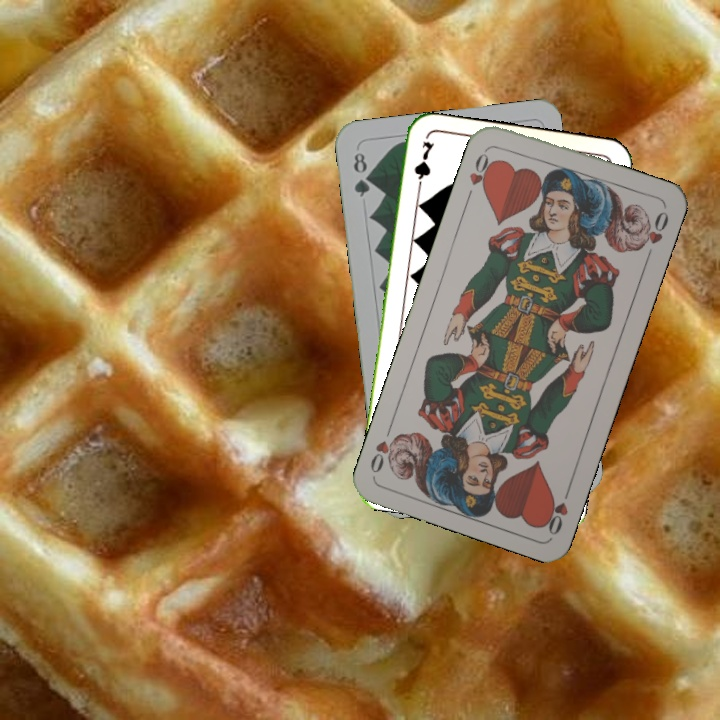G7: (410, 137, 437, 196)
G8: (349, 148, 373, 199)
HO: (463, 145, 498, 202), (539, 481, 574, 538)
